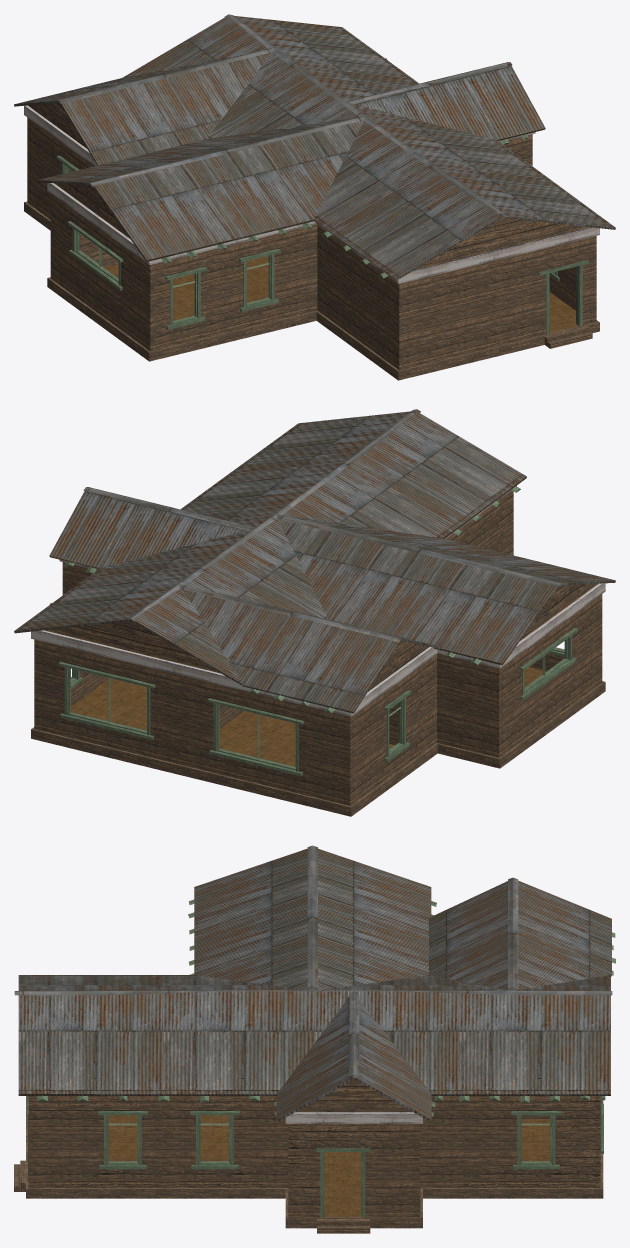
File: BuildingMedWood01_2048_lod1.glb
The picture shows the model from 3 angles, top to bottom: view 1: azimuth 30°, elevation 25°; view 2: azimuth 150°, elevation 25°; view 3: azimuth 270°, elevation 25°; orthographic projection. The views are drawn at different scales.
Visible parts, largest first — view 1: xiutz_building_med_wood_01_l; view 2: xiutz_building_med_wood_01_l; view 3: xiutz_building_med_wood_01_l.
Part boxes in pixels (x1=…): xiutz_building_med_wood_01_l: x1=14, y1=14, x2=615, y2=380; xiutz_building_med_wood_01_l: x1=14, y1=409, x2=615, y2=816; xiutz_building_med_wood_01_l: x1=14, y1=845, x2=615, y2=1233.
Bounding box in the file's own units: 22.22 × 6.85 × 24.2.
Materials: 1 (1 with a texture image).
